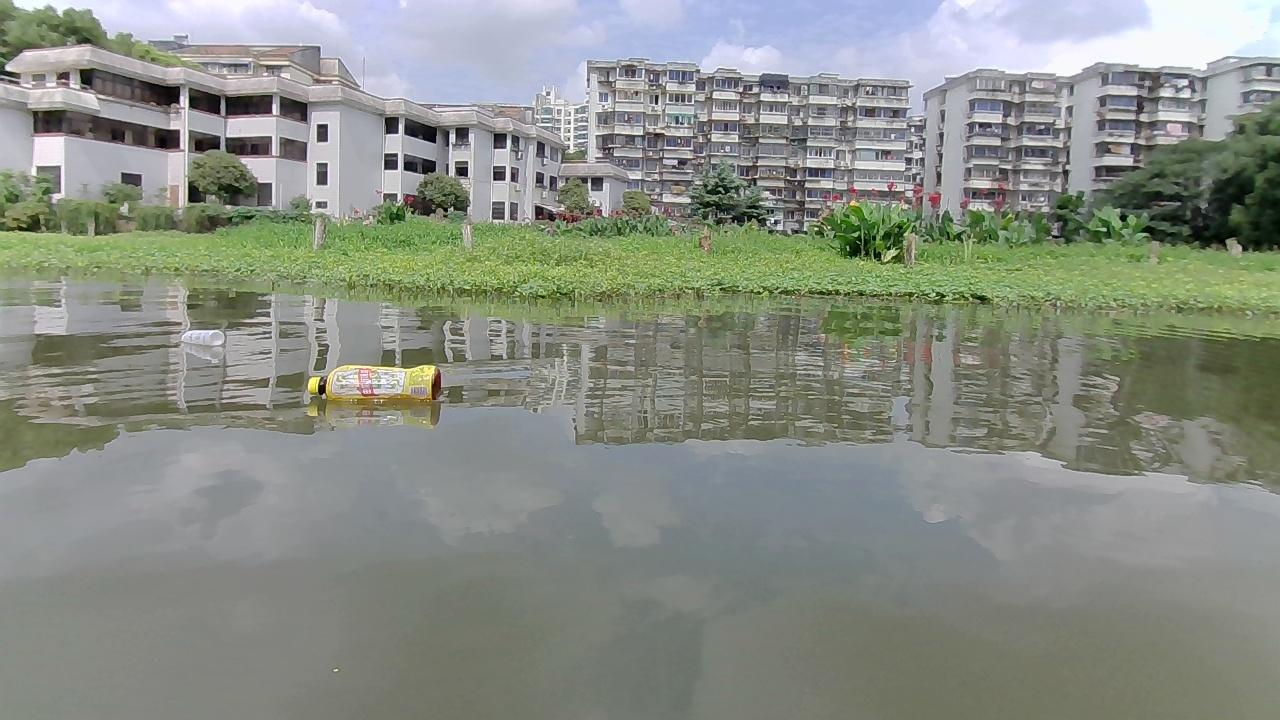bottle: (306, 363, 443, 399), (180, 329, 225, 345)
